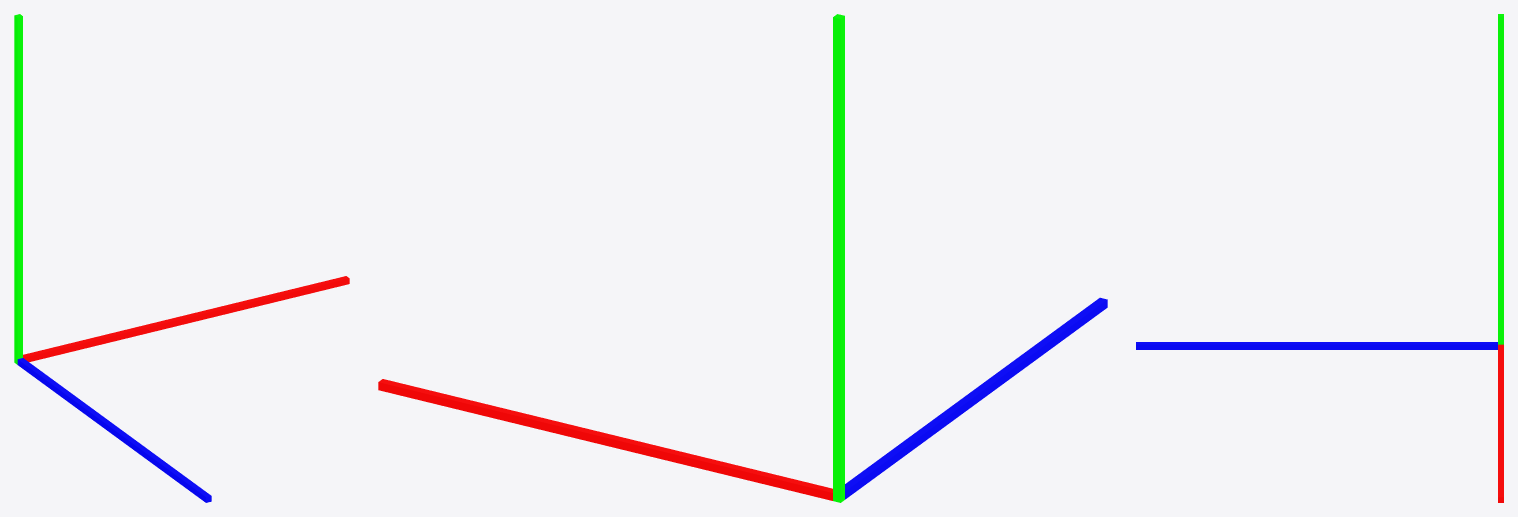
Rendered from gizmo.glb.
The picture shows the model from 3 angles, left to right: view 1: azimuth 30°, elevation 25°; view 2: azimuth 150°, elevation 25°; view 3: azimuth 270°, elevation 25°; orthographic projection. The views are drawn at different scales.
Parts seen in each view (by area): view 1: Cube; view 2: Cube; view 3: Cube.
Part boxes in pixels (bbox=[...]): Cube: bbox=[14, 14, 349, 502]; Cube: bbox=[378, 14, 1107, 502]; Cube: bbox=[1136, 14, 1503, 502].
Size of the model in its own units: 3 by 3 by 3.
